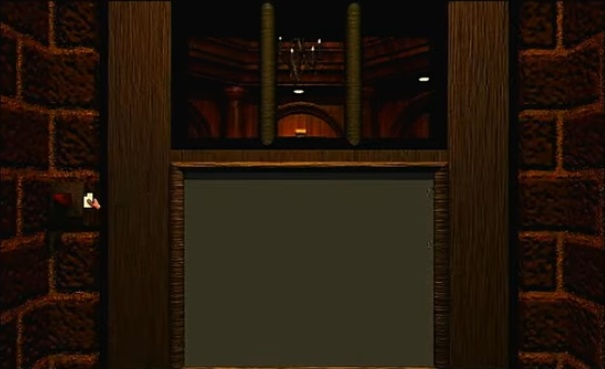Keep: (80, 191, 103, 211)
